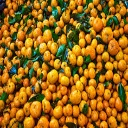orange: (29, 99, 41, 119), (46, 67, 59, 85), (70, 88, 82, 106), (24, 36, 34, 49), (6, 81, 16, 94)
